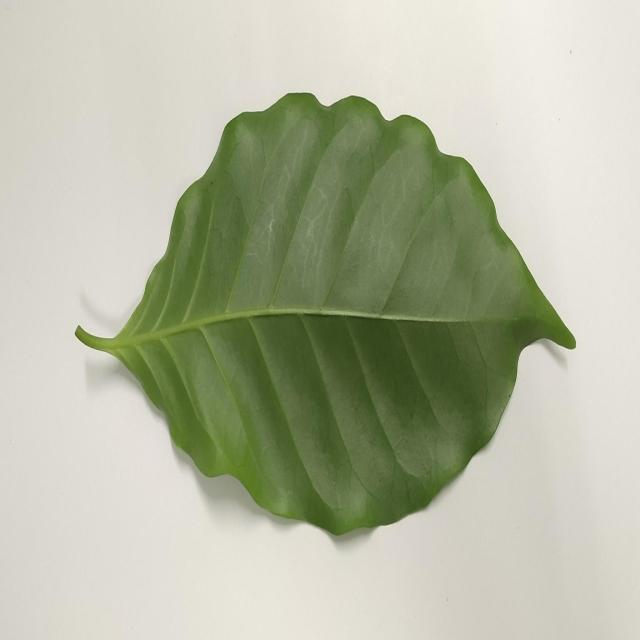Sanas: (74, 92, 577, 540)
